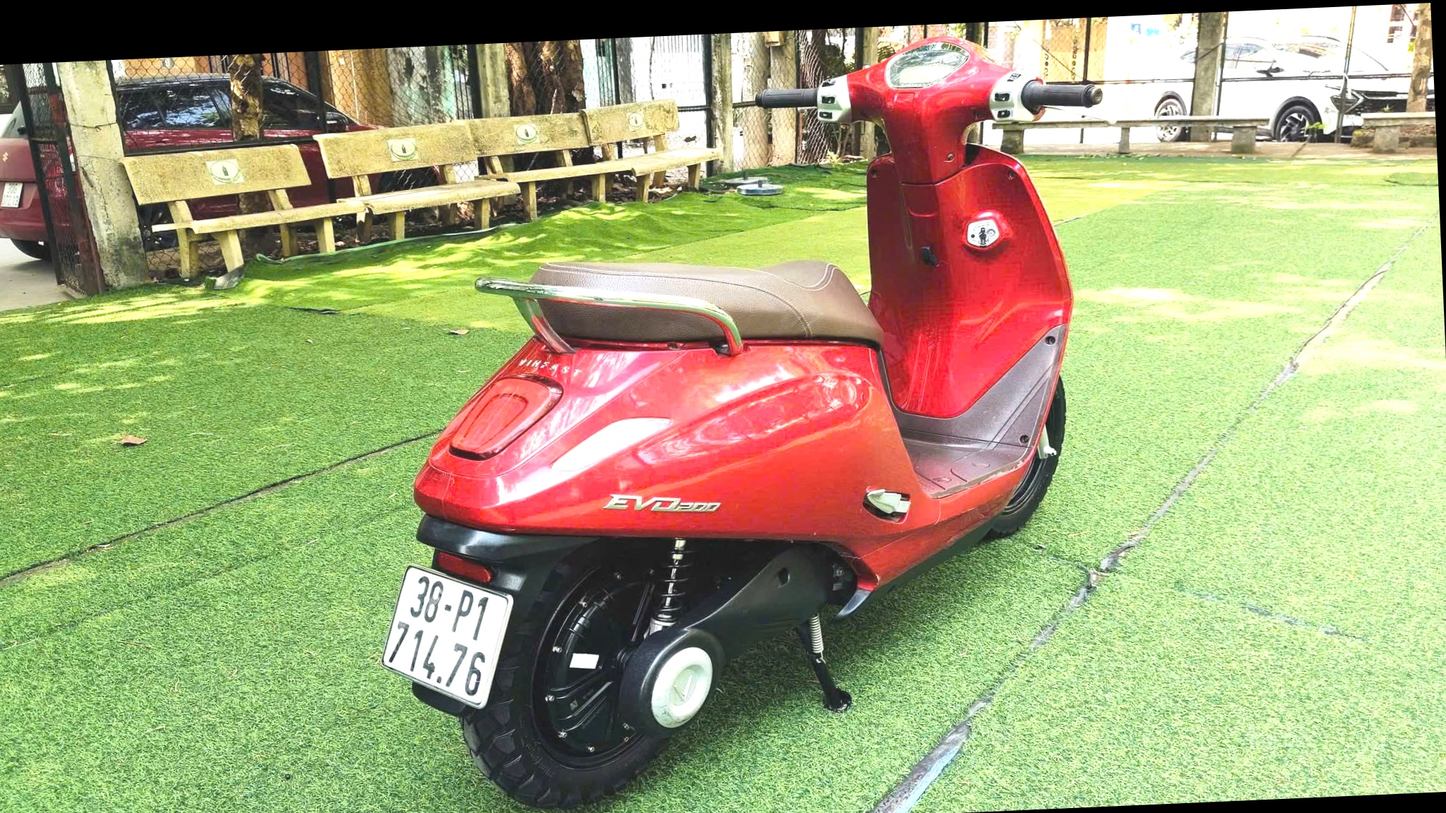Bien-so: (375, 564, 524, 714)
